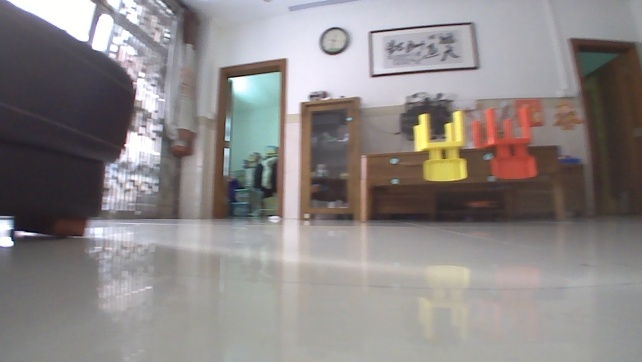door_anno: (581, 50, 641, 216)
sofa1: (0, 0, 135, 243)
tea_table: (357, 142, 568, 223)
